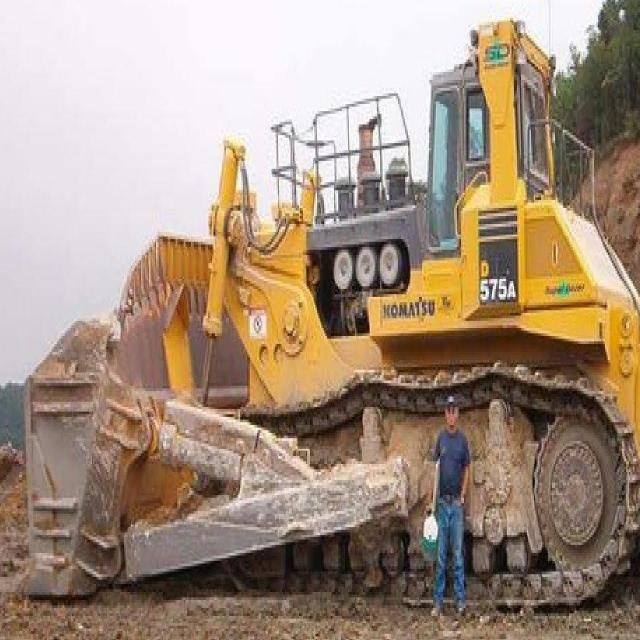Bulldozer: (28, 24, 640, 620)
